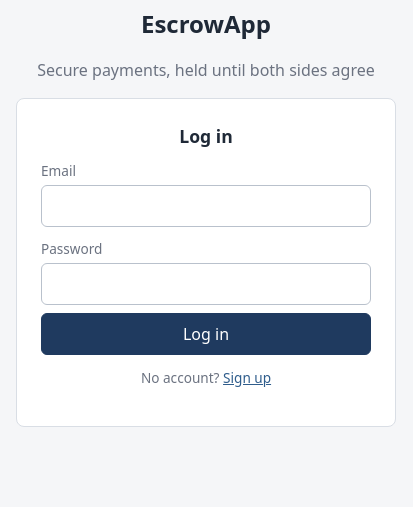
login & guards › shows the server message when the password is wrong
Step 1. Type "a@b.co" into the field labelled "Email" → (206, 206), box x1=41 y1=185 x2=371 y2=227
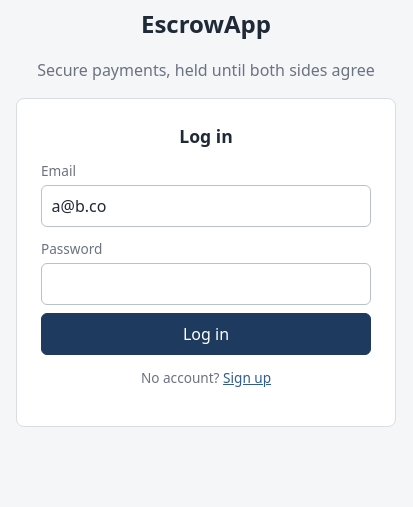
Step 2. Type "whatever1" into the password field labelled "Password" → (206, 284), box x1=41 y1=262 x2=371 y2=304
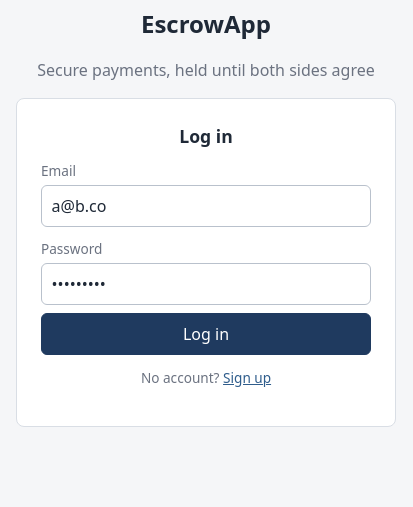
Step 3. Click the button "Log in" → (206, 334), box x1=41 y1=312 x2=371 y2=354
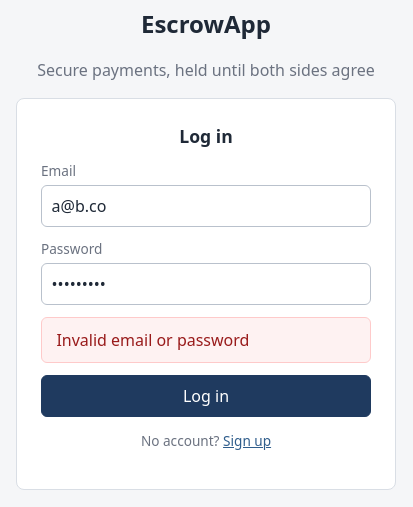
Expected: the message reads "Invalid email or password", x1=56 y1=329 x2=249 y2=351
